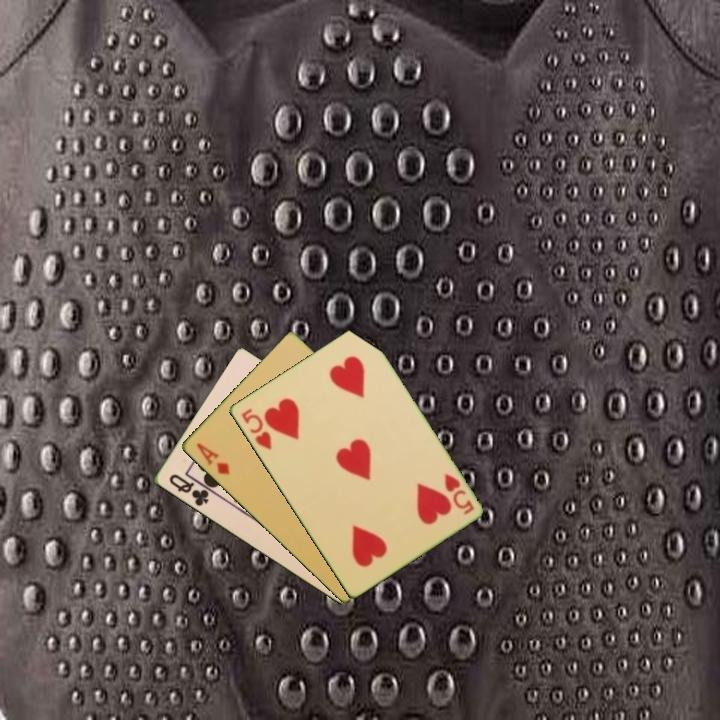5h: (237, 405, 274, 453), (440, 470, 477, 517)
Ad: (192, 439, 232, 478)
Qc: (165, 470, 212, 509)
